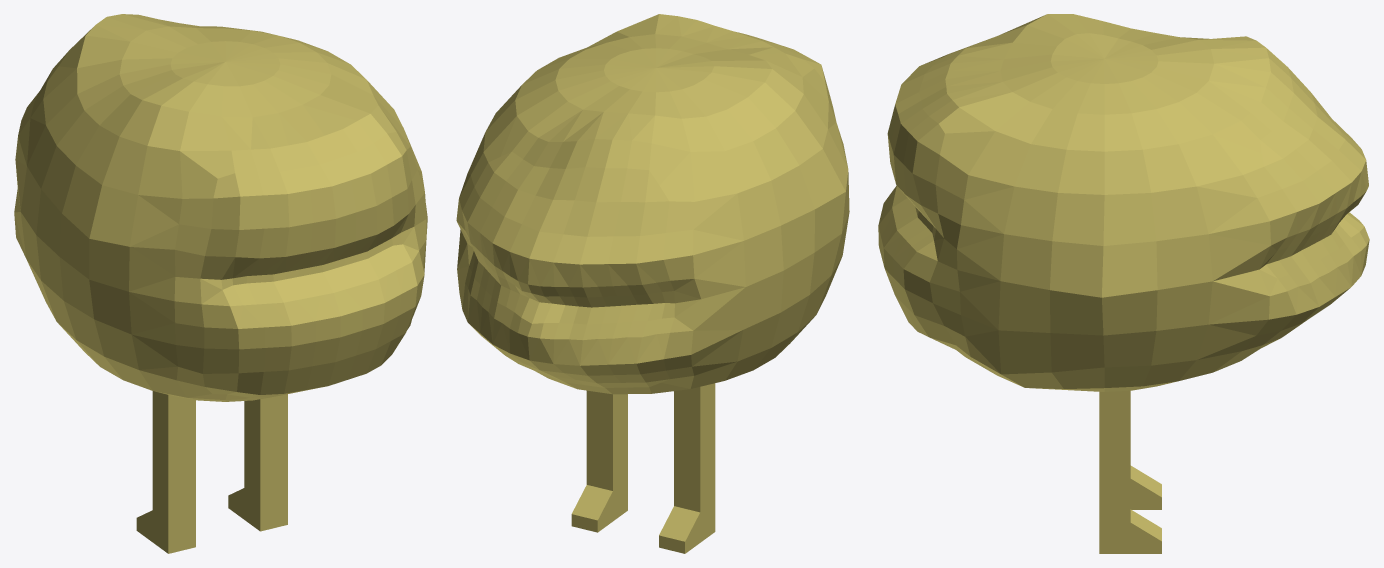
File: popcorn-kernel-2.fbx
3 views of the same model, side by side, from view 1: azimuth 30°, elevation 25°; view 2: azimuth 150°, elevation 25°; view 3: azimuth 270°, elevation 25° (orthographic). The views are drawn at different scales.
Parts seen in each view (by area): view 1: kernel2; view 2: kernel2; view 3: kernel2.
Part boxes in pixels (left/top/right/bottom): kernel2: left=14, top=14, right=427, bottom=553; kernel2: left=456, top=14, right=849, bottom=553; kernel2: left=878, top=14, right=1369, bottom=553.
Size of the model in its own units: 191 by 248 by 236.
